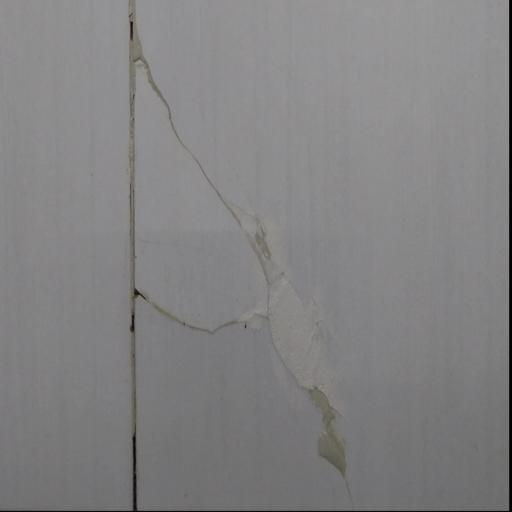minor_crack: (124, 10, 391, 512)
